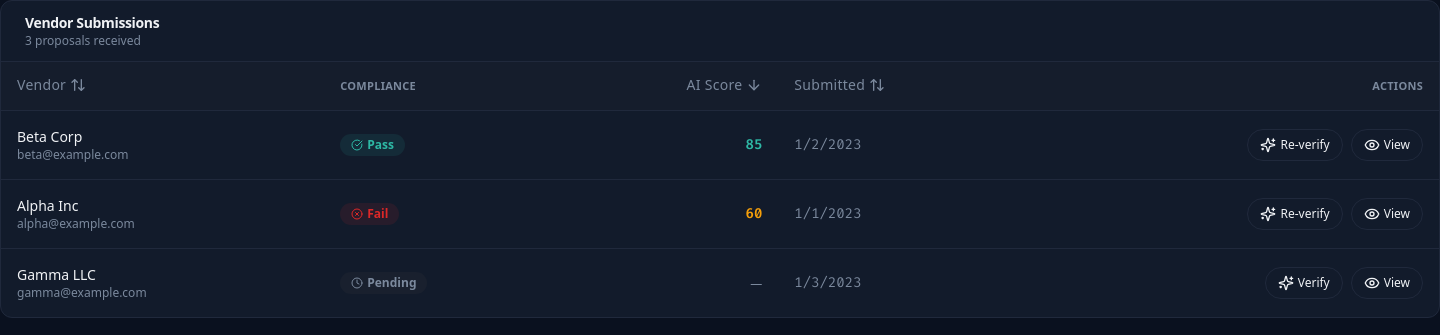
Test: SubmissionReviewTable › headers are accessible sort buttons
This screenshot has width=1440, height=335.
Expected: the button "AI Score" is shown, x1=686 y1=75 x2=762 y2=95
Expected: the button "Submitted" is shown, x1=794 y1=75 x2=885 y2=95
Click vendor button
Click the button "Vendor" at (52, 85), box x1=17 y1=75 x2=86 y2=95
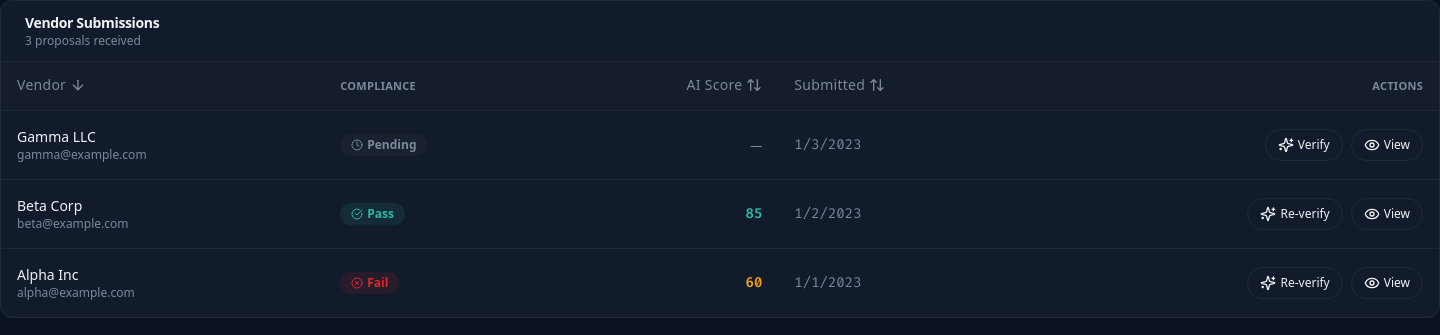
Now the column heading "Vendor" has attribute aria-sort="descending", box x1=1 y1=62 x2=324 y2=110
Click vendor button again
Click the button "Vendor" at (52, 85), box x1=17 y1=75 x2=86 y2=95
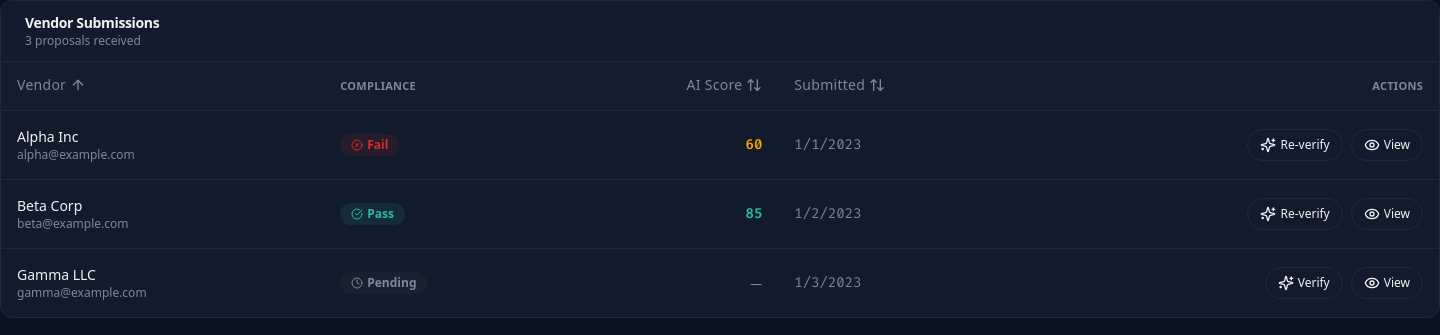
Now the column heading "Vendor" has attribute aria-sort="ascending", box x1=1 y1=62 x2=324 y2=110
